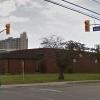Traffic light: (77, 17, 95, 39)
